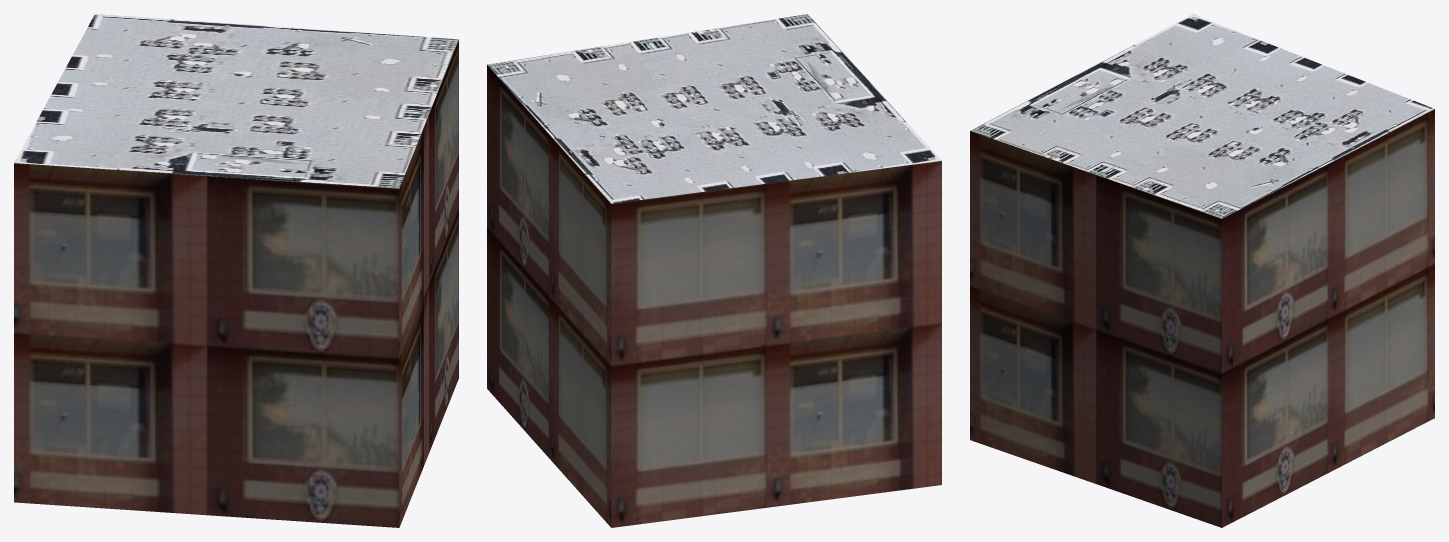
File: ResTex__4834.fbx
3 renders of one model, left to right at view 1: azimuth 30°, elevation 25°; view 2: azimuth 150°, elevation 25°; view 3: azimuth 270°, elevation 25°, orthographic. The views are drawn at different scales.
Parts seen in each view (by area): view 1: CityEngineMaterial_13_m, CityEngineMaterial_m; view 2: CityEngineMaterial_13_m, CityEngineMaterial_m; view 3: CityEngineMaterial_13_m, CityEngineMaterial_m.
Boxes of the visible parts, x1,y1,x2,y2 form: CityEngineMaterial_13_m: (14,39,458,527); CityEngineMaterial_m: (14,14,458,188); CityEngineMaterial_13_m: (487,65,941,527); CityEngineMaterial_m: (487,14,941,203); CityEngineMaterial_13_m: (970,109,1434,527); CityEngineMaterial_m: (970,14,1434,218).
Bounding box in the file's own units: 8.52 × 6 × 8.18.
2 materials, 2 textured.
